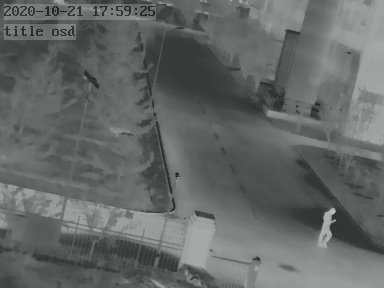person: (318, 205, 334, 244)
